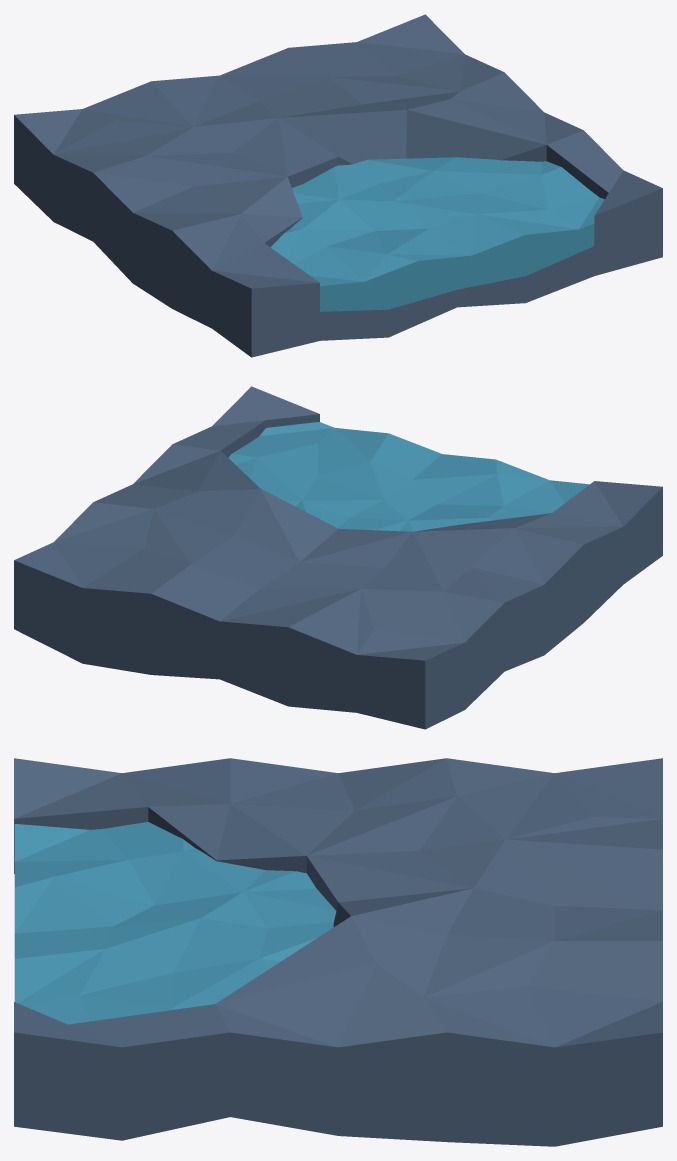
File: fbTileGroundTop3.fbx
3 renders of one model, top to bottom at view 1: azimuth 30°, elevation 25°; view 2: azimuth 150°, elevation 25°; view 3: azimuth 270°, elevation 25°, orthographic. The views are drawn at different scales.
Visible parts, largest first — view 1: polySurface73, polySurface75, polySurface76, polySurface77, polySurface74; view 2: polySurface73, polySurface75, polySurface77, polySurface76, polySurface74; view 3: polySurface73, polySurface75, polySurface77, polySurface76, polySurface74.
Boxes of the visible parts, x1,y1,x2,y2 form: polySurface73: (14,42,662,357); polySurface75: (14,14,583,288); polySurface76: (287,157,599,311); polySurface77: (270,157,604,286); polySurface74: (595,170,662,215); polySurface73: (14,414,662,729); polySurface75: (14,444,662,660); polySurface77: (232,422,589,531); polySurface76: (228,428,551,531); polySurface74: (212,386,318,426); polySurface73: (14,758,662,1146); polySurface75: (14,758,662,1047); polySurface77: (14,822,336,1021); polySurface76: (14,828,334,1024); polySurface74: (14,1002,120,1047).
Size of the model in its own units: 1000 by 249 by 1000.
